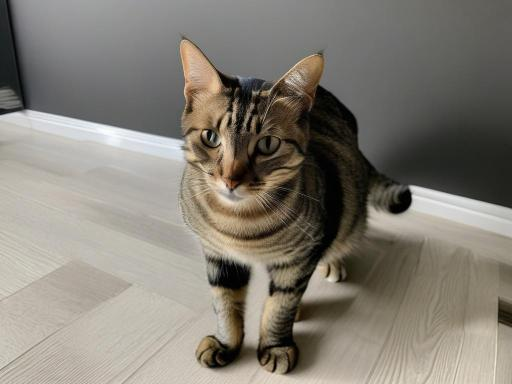cat_standing: (179, 38, 411, 373)
